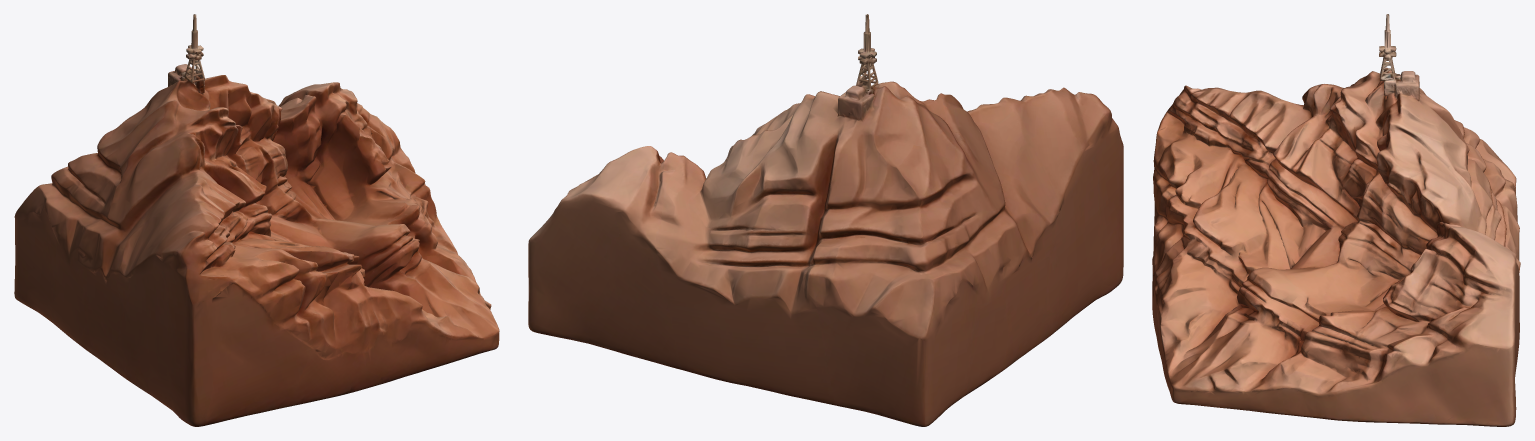
Rendered from saentis-lite.glb.
3 renders of one model, left to right at view 1: azimuth 30°, elevation 25°; view 2: azimuth 150°, elevation 25°; view 3: azimuth 270°, elevation 25°, orthographic. The views are drawn at different scales.
Parts seen in each view (by area): view 1: tripo_node_e09e7065-d803-4eab-aa87-66bf58f663a8; view 2: tripo_node_e09e7065-d803-4eab-aa87-66bf58f663a8; view 3: tripo_node_e09e7065-d803-4eab-aa87-66bf58f663a8.
Part boxes in pixels (bbox=[...]): tripo_node_e09e7065-d803-4eab-aa87-66bf58f663a8: bbox=[14, 14, 499, 426]; tripo_node_e09e7065-d803-4eab-aa87-66bf58f663a8: bbox=[528, 14, 1123, 426]; tripo_node_e09e7065-d803-4eab-aa87-66bf58f663a8: bbox=[1152, 14, 1520, 426].
Bounding box in the file's own units: 0.9804 × 0.7712 × 0.8692.
1 material, 1 textured.
